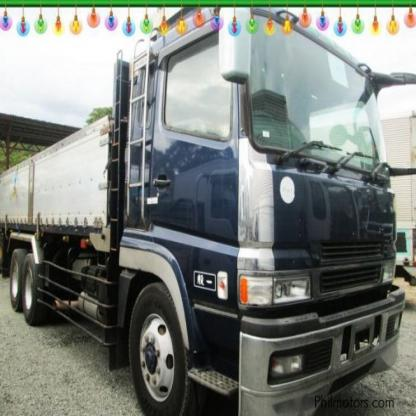truck: (1, 5, 406, 416)
